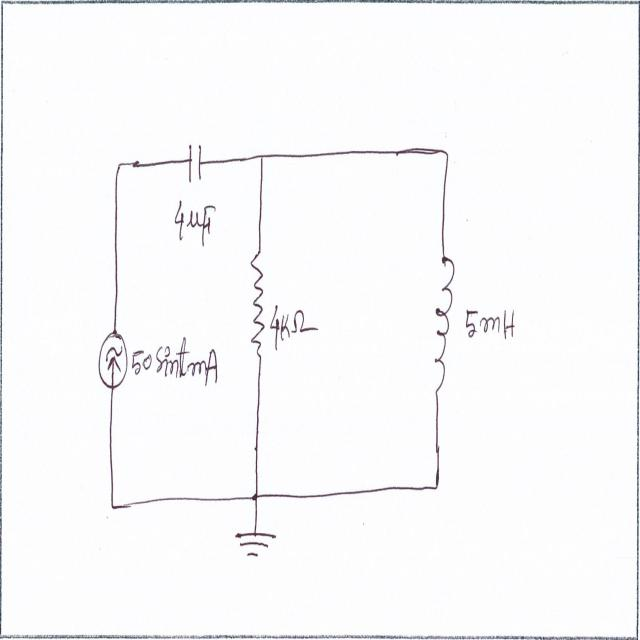capacitor: (186, 139, 207, 187)
current_source: (97, 329, 129, 393)
ground: (233, 524, 279, 566)
inductor: (427, 255, 454, 398)
resistor: (248, 245, 266, 361)
